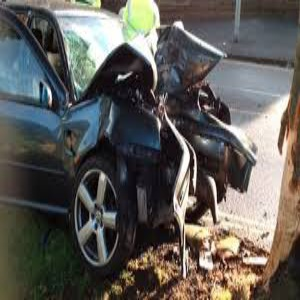bonnet: (111, 25, 227, 107)
bumper: (128, 147, 261, 236)
